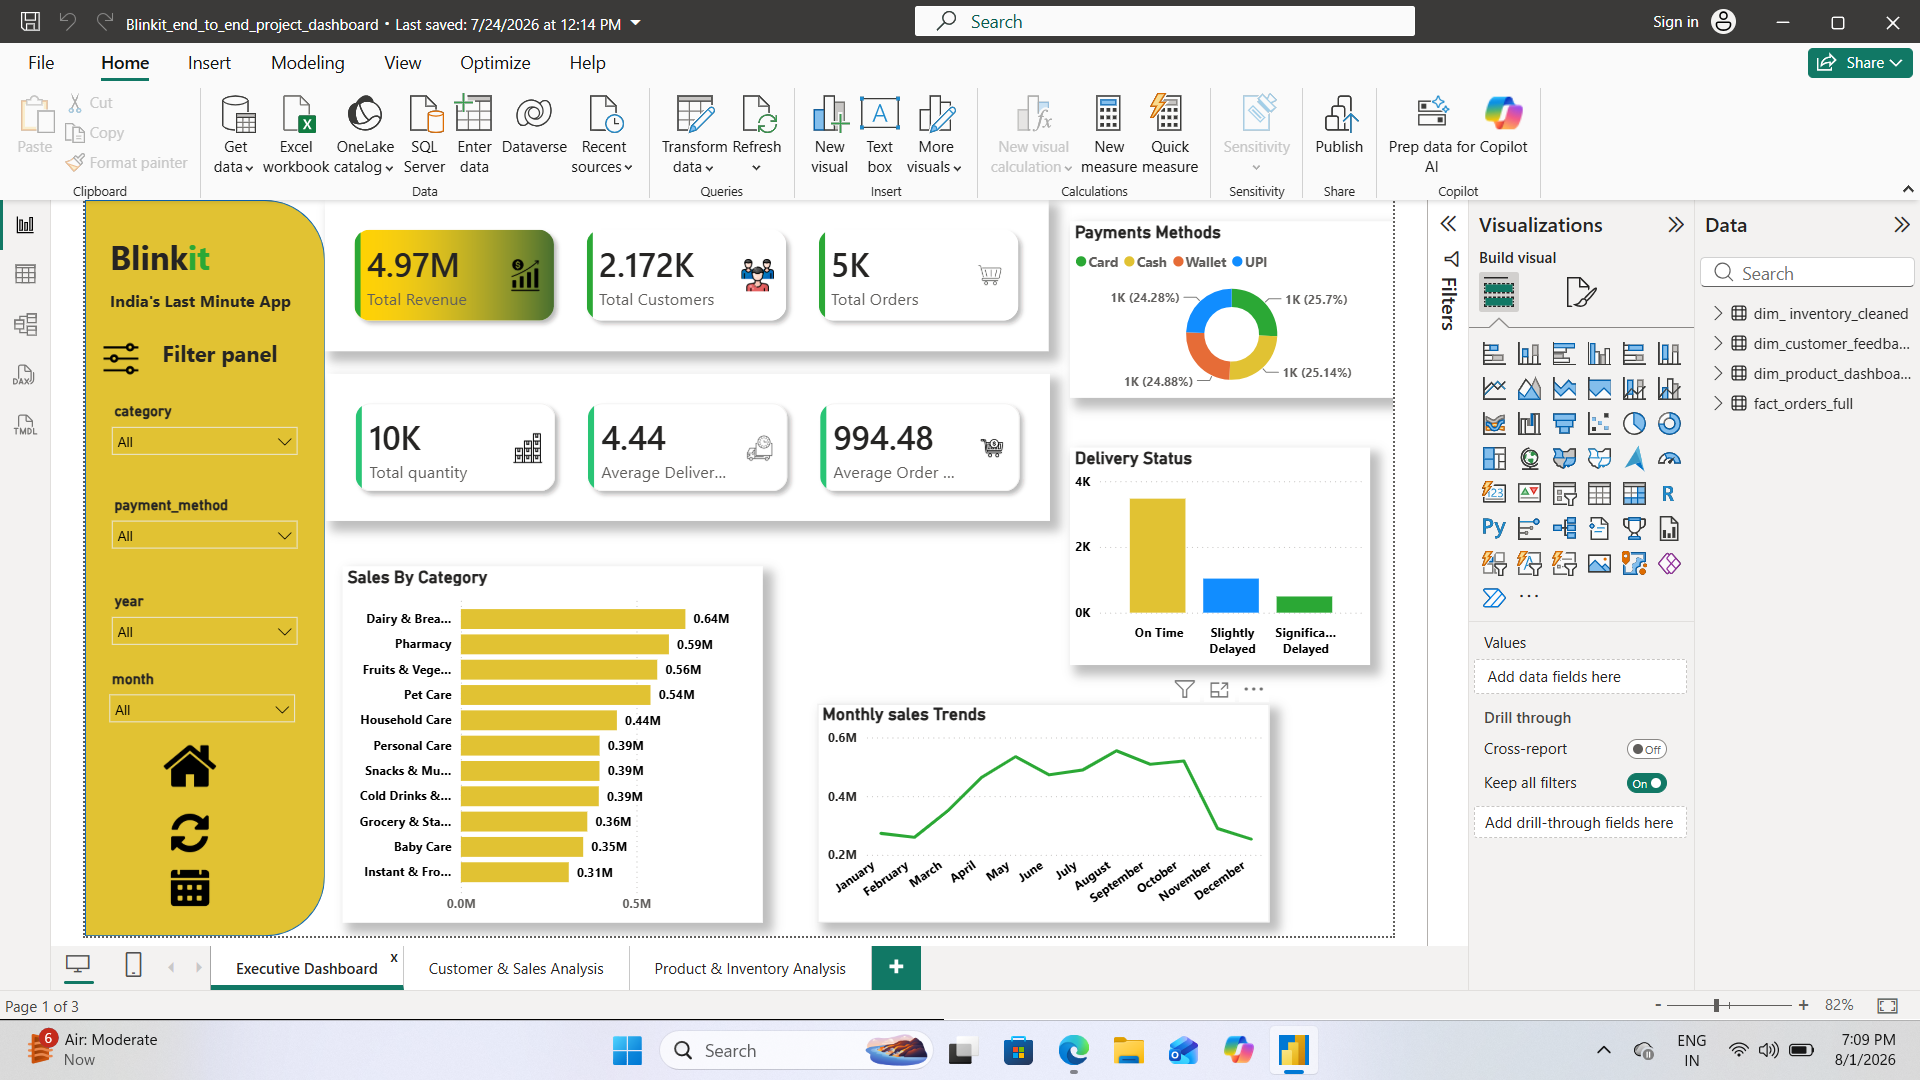

This screenshot's page, from the dashboard's own definition file:
{"tool":"powerbi","page":{"name":"Executive Dashboard","canvas":[1280,720],"ordinal":0},"visuals":[{"type":"cardVisual","fields":{"Data":["fact_orders_full.Total quantity","fact_orders_full.Average Delivery Delay","fact_orders_full.Average Order Value"]},"box":[236,170,708,144.3],"z":0},{"type":"cardVisual","fields":{"Data":["Sum(fact_orders_full.total_sales)","fact_orders_full.Total Customers","fact_orders_full.Totaal Orders"]},"box":[234.8,0,708,148],"z":1000},{"type":"shape","box":[0,0,234.8,720.2],"z":2000},{"type":"textbox","box":[19.6,29.3,165.1,56.3],"z":3000},{"type":"textbox","box":[19.6,81.9,195.7,35.5],"z":4000},{"type":"clusteredBarChart","title":"Sales By Category","fields":{"Category":["fact_orders_full.category"],"Y":["Sum(fact_orders_full.total_sales)"]},"box":[251.9,358.3,410.9,348.5],"z":5000},{"type":"lineChart","title":"Monthly sales Trends","fields":{"Y":["Sum(fact_orders_full.total_sales)"],"Category":["fact_orders_full.month"]},"box":[716.6,492.8,442.7,214],"z":6000},{"type":"donutChart","title":"Payments Methods","fields":{"Category":["fact_orders_full.payment_method"],"Y":["fact_orders_full.Totaal Orders"]},"box":[963.6,20.8,316.7,172.4],"z":7000},{"type":"clusteredColumnChart","title":"Delivery Status","fields":{"Category":["fact_orders_full.delivery_status"],"Y":["fact_orders_full.Totaal Orders"]},"box":[963.6,242.1,293.5,212.8],"z":8000},{"type":"textbox","box":[70.9,130.8,134.5,39.1],"z":9000},{"type":"image","box":[0,129.6,70.9,52.6],"z":10000},{"type":"slicer","fields":{"Values":["fact_orders_full.category"]},"box":[15.9,193.2,201.8,75.8],"z":11000},{"type":"slicer","fields":{"Values":["fact_orders_full.payment_method"]},"box":[15.9,284.9,201.8,75.8],"z":12000},{"type":"slicer","fields":{"Values":["fact_orders_full.year"]},"box":[15.9,379.1,201.8,75.8],"z":13000},{"type":"slicer","fields":{"Values":["fact_orders_full.month"]},"box":[13.5,454.9,201.8,75.8],"z":14000},{"type":"image","box":[77.5,600,51.2,37.5],"z":15000},{"type":"image","box":[77.5,518.8,51.2,70],"z":16000},{"type":"image","box":[82.5,652.5,41.2,40],"z":17000}]}

Visuals, with their boxes on the page's 1280x720 design canvas (x1, y1, x2, y2). These are canvas units, not pixel positions in the 1920x1080 screenshot, which may show the page scaled, cropped or inside an application window:
cardVisual - fact_orders_full.Total quantity x fact_orders_full.Average Delivery Delay: 236 170 944 314
cardVisual - Sum(fact_orders_full.total_sales) x fact_orders_full.Total Customers: 235 0 943 148
shape: 0 0 235 720
textbox: 20 29 185 86
textbox: 20 82 215 117
"Sales By Category" clusteredBarChart: 252 358 663 707
"Monthly sales Trends" lineChart: 717 493 1159 707
"Payments Methods" donutChart: 964 21 1280 193
"Delivery Status" clusteredColumnChart: 964 242 1257 455
textbox: 71 131 205 170
image: 0 130 71 182
slicer - fact_orders_full.category: 16 193 218 269
slicer - fact_orders_full.payment_method: 16 285 218 361
slicer - fact_orders_full.year: 16 379 218 455
slicer - fact_orders_full.month: 14 455 215 531
image: 78 600 129 638
image: 78 519 129 589
image: 82 652 124 692
